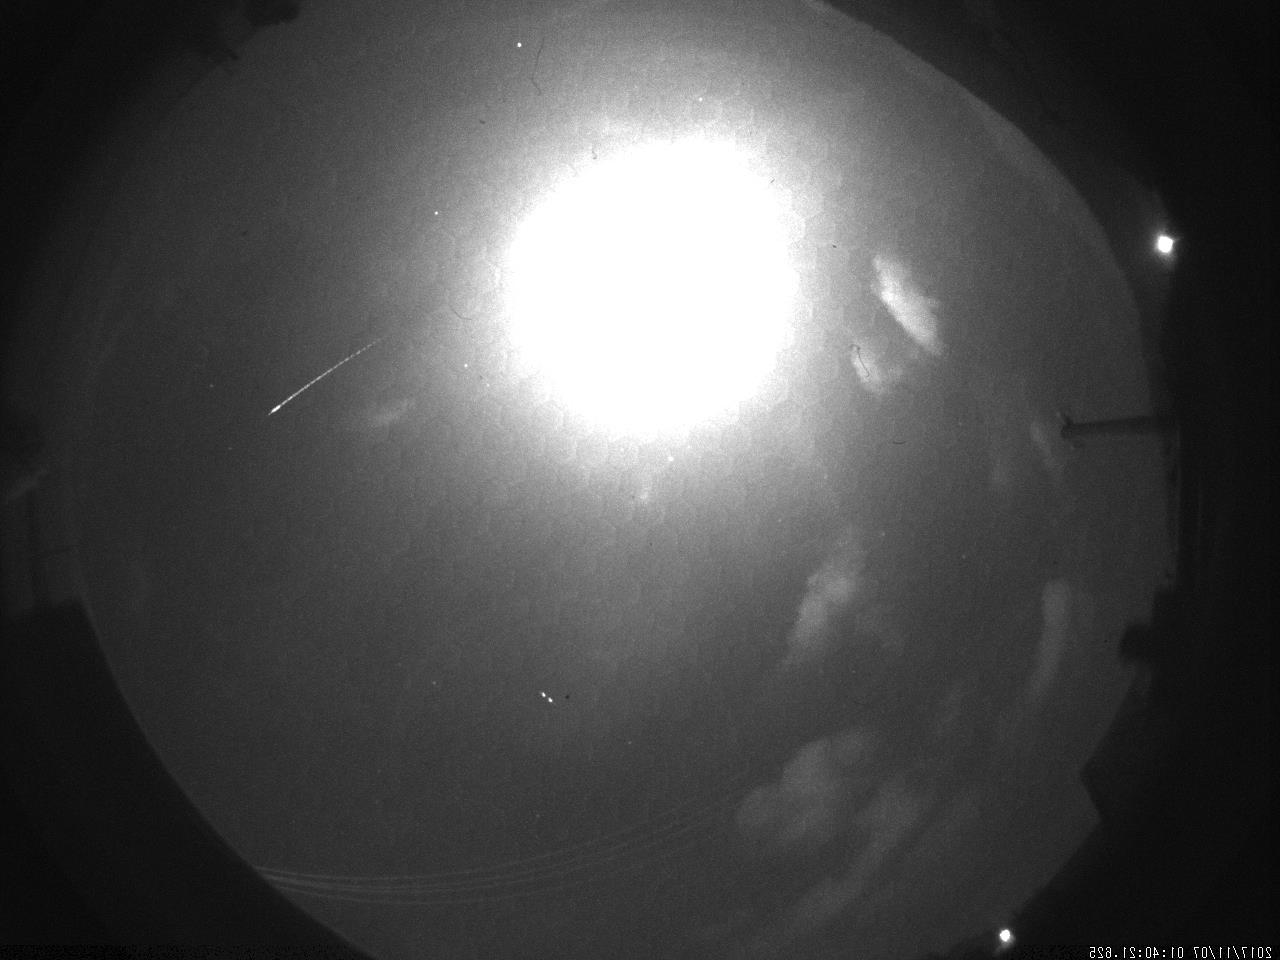meteor: (254, 327, 390, 427)
